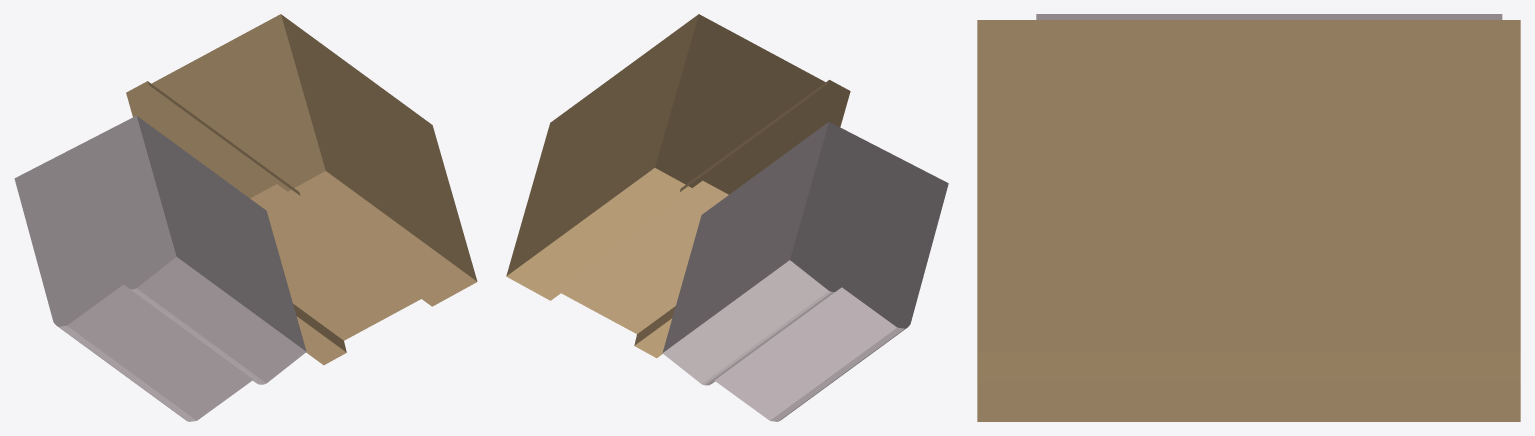
The picture shows the model from 3 angles, left to right: view 1: azimuth 30°, elevation 25°; view 2: azimuth 150°, elevation 25°; view 3: azimuth 270°, elevation 25°; orthographic projection. The views are drawn at different scales.
Parts seen in each view (by area): view 1: 0_1_1_3_3_2_1_1_1_1; view 2: 0_1_1_3_3_2_1_1_1_1; view 3: 0_1_1_3_3_2_1_1_1_1.
Boxes of the visible parts, x1,y1,x2,y2 form: 0_1_1_3_3_2_1_1_1_1: (14, 14, 477, 421); 0_1_1_3_3_2_1_1_1_1: (506, 14, 948, 421); 0_1_1_3_3_2_1_1_1_1: (977, 14, 1520, 421).
Size of the model in its own units: 25.28 by 19.43 by 21.
